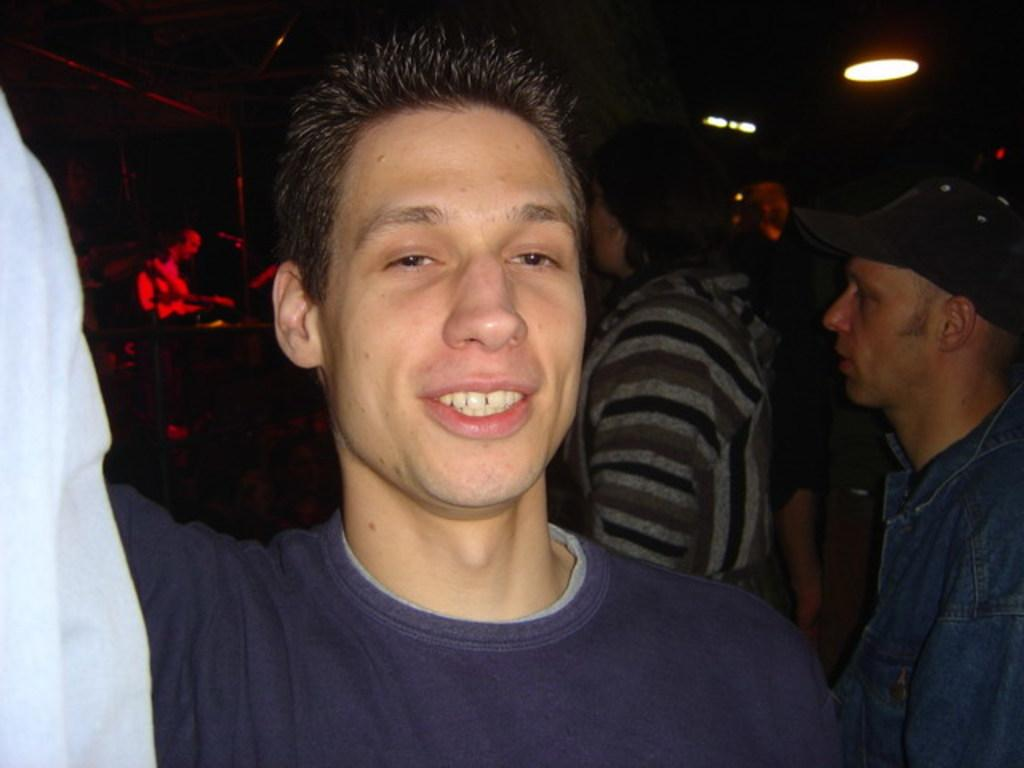Hat: (793, 171, 1022, 337)
